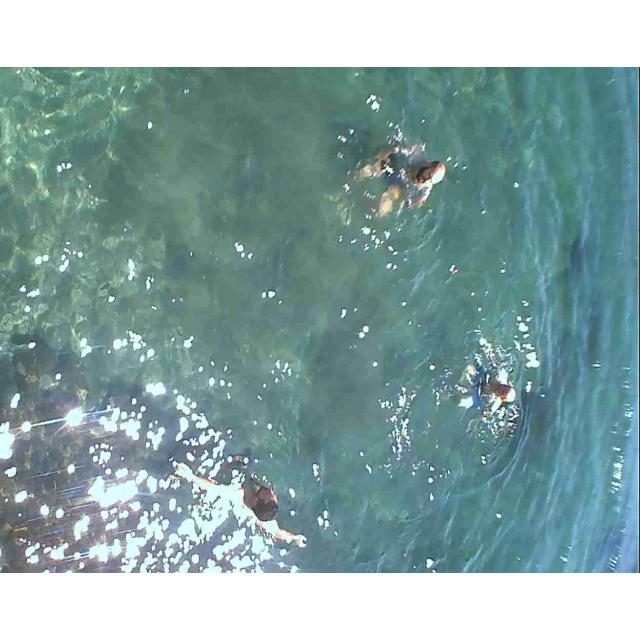human: (223, 454, 297, 540), (473, 344, 537, 443), (390, 132, 459, 218)
